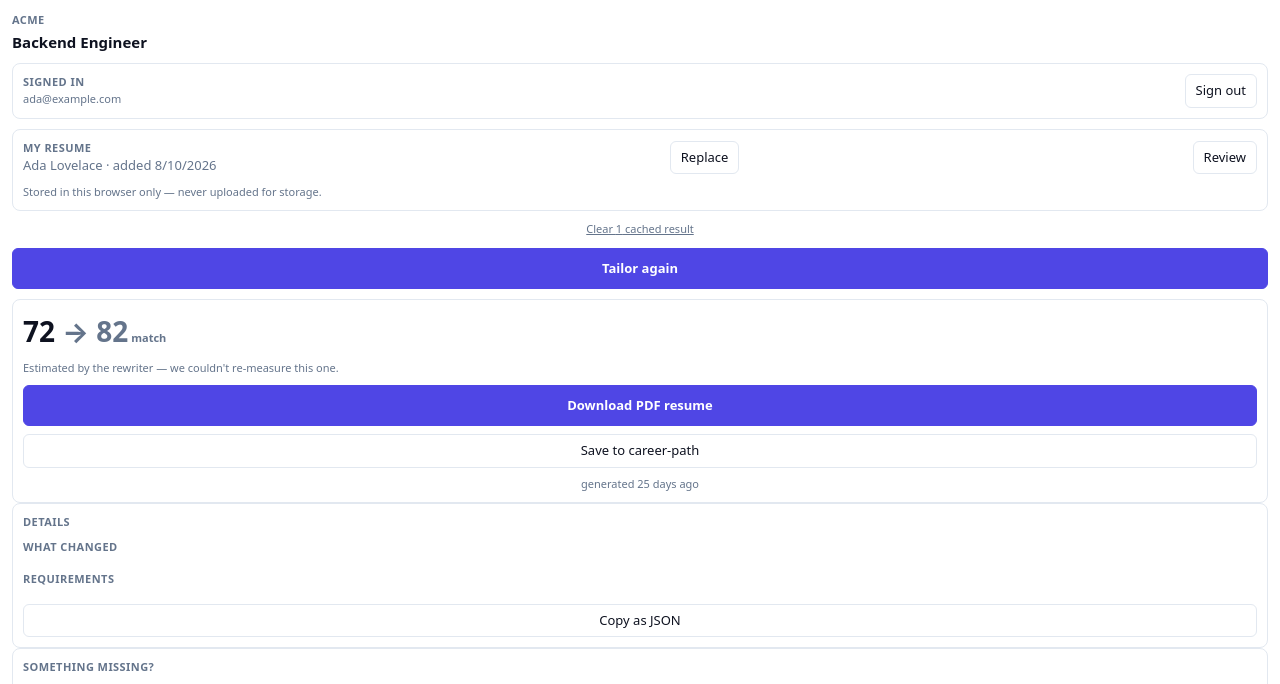
Scenario: App - account bar, sign-out, and session handling › sign-out with the box checked (the default) ends the session AND clears the resume, the cache, and the displayed run
The width and height of the screenshot is (1280, 684).
Check: the element showing "72 → 82 match" is shown, box [23,312,166,350]
Check: the button "Clear 1 cached result" is shown, box [586,221,694,238]
Click the button "Sign out": (1221, 91) [1184,74,1257,108]
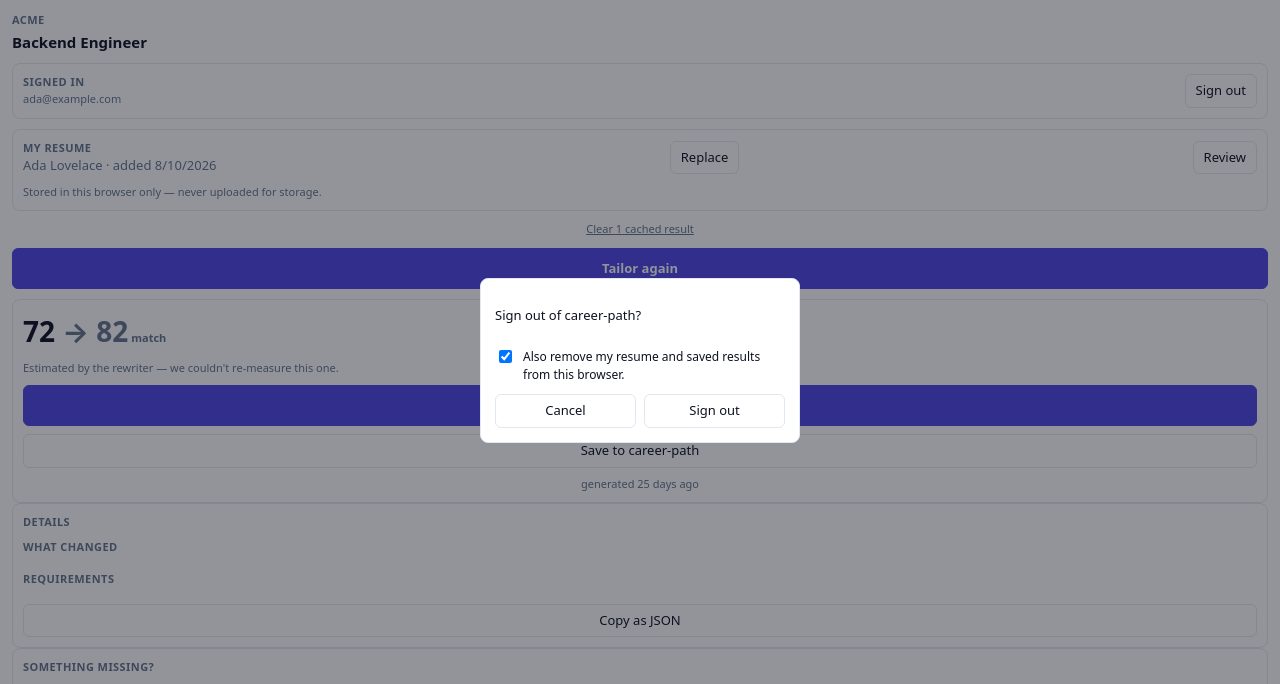
Check: the dialog with class "dialog" is shown, box [480,278,800,442]
Check: the checkbox labelled "Also remove my resume and saved results from this browser." is checked, box [499,350,512,363]
Check: the label with class "dialog-checkbox" reads "Also remove my resume and saved results from this browser.", box [523,348,760,383]
Click the button "Sign out": (714, 411) [644,394,785,428]
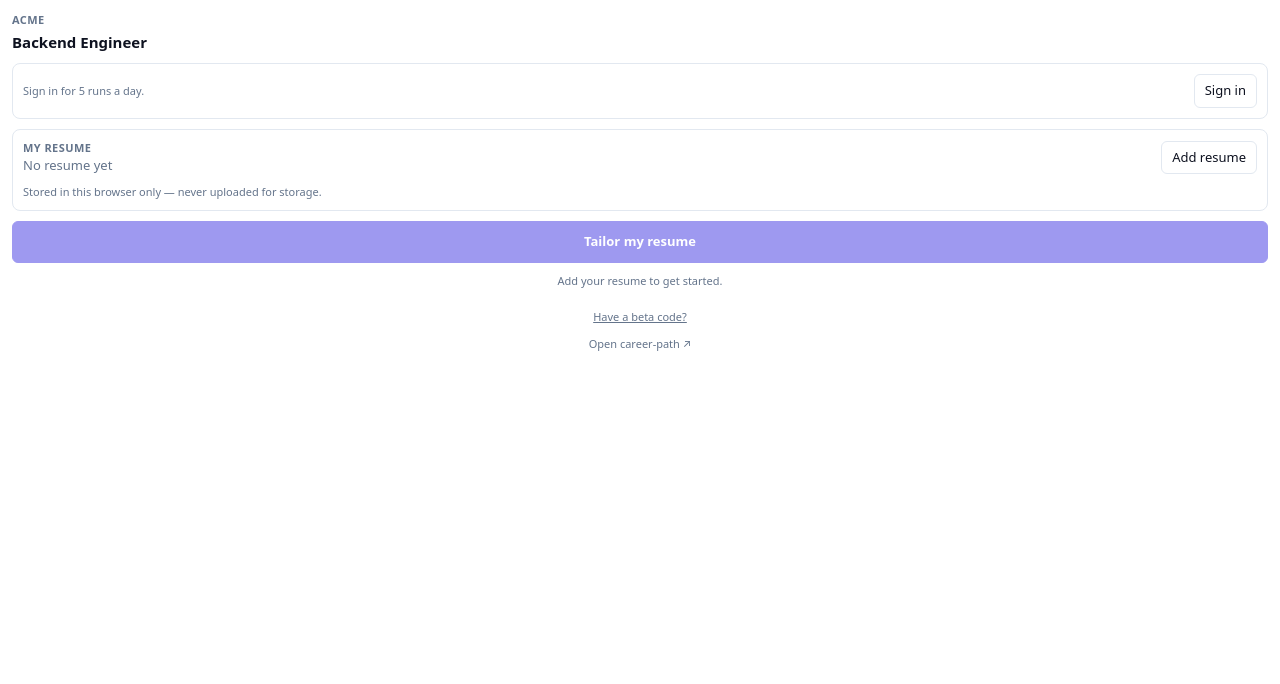
Check: the link "Sign in" is shown, box [1194,74,1257,108]
Check: the text "Ada Lovelace" is gone
